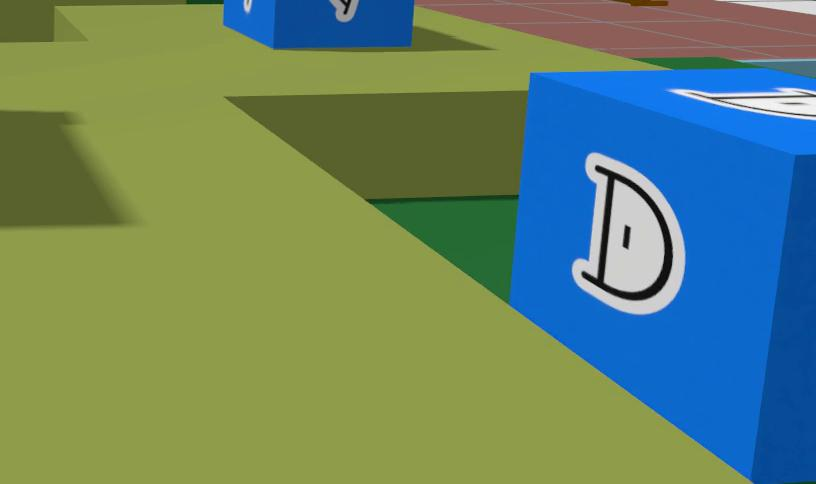KFS_REAL: (509, 69, 815, 483), (573, 153, 683, 313), (224, 0, 413, 48), (328, 0, 359, 21), (243, 0, 252, 13)
